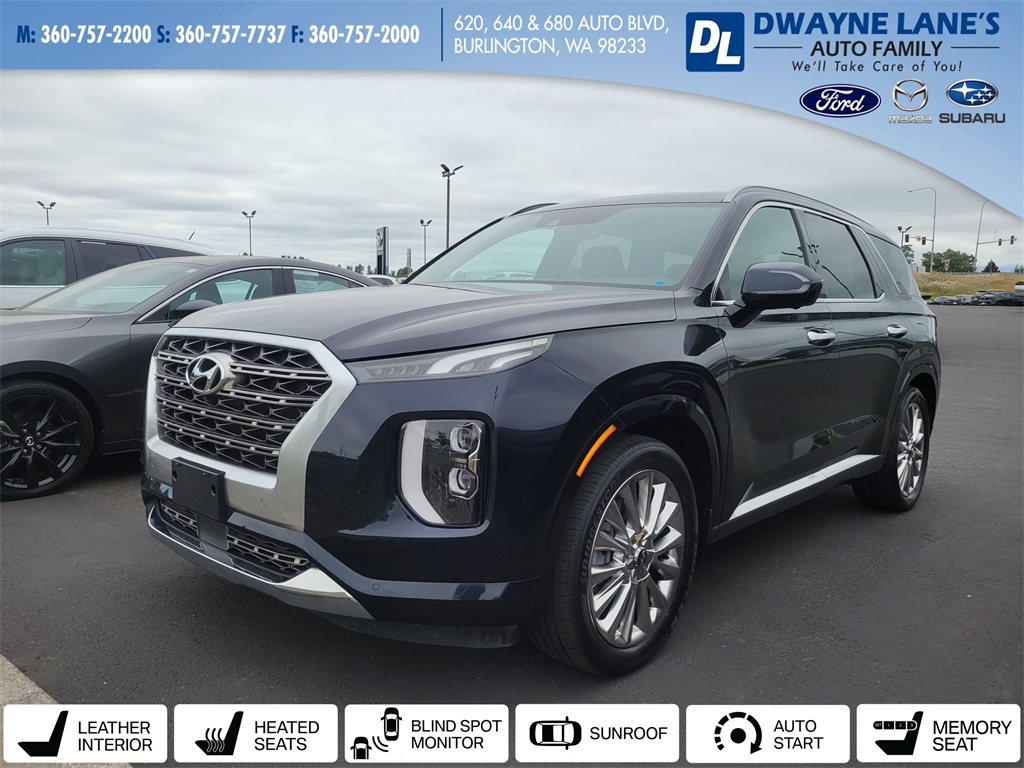car: (132, 176, 948, 681)
